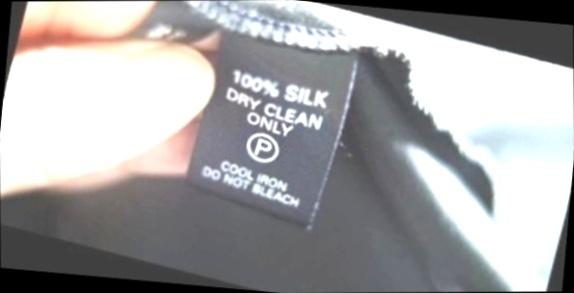dry_clean_any_solvent_except_trichloroethylene: (237, 122, 291, 173)
